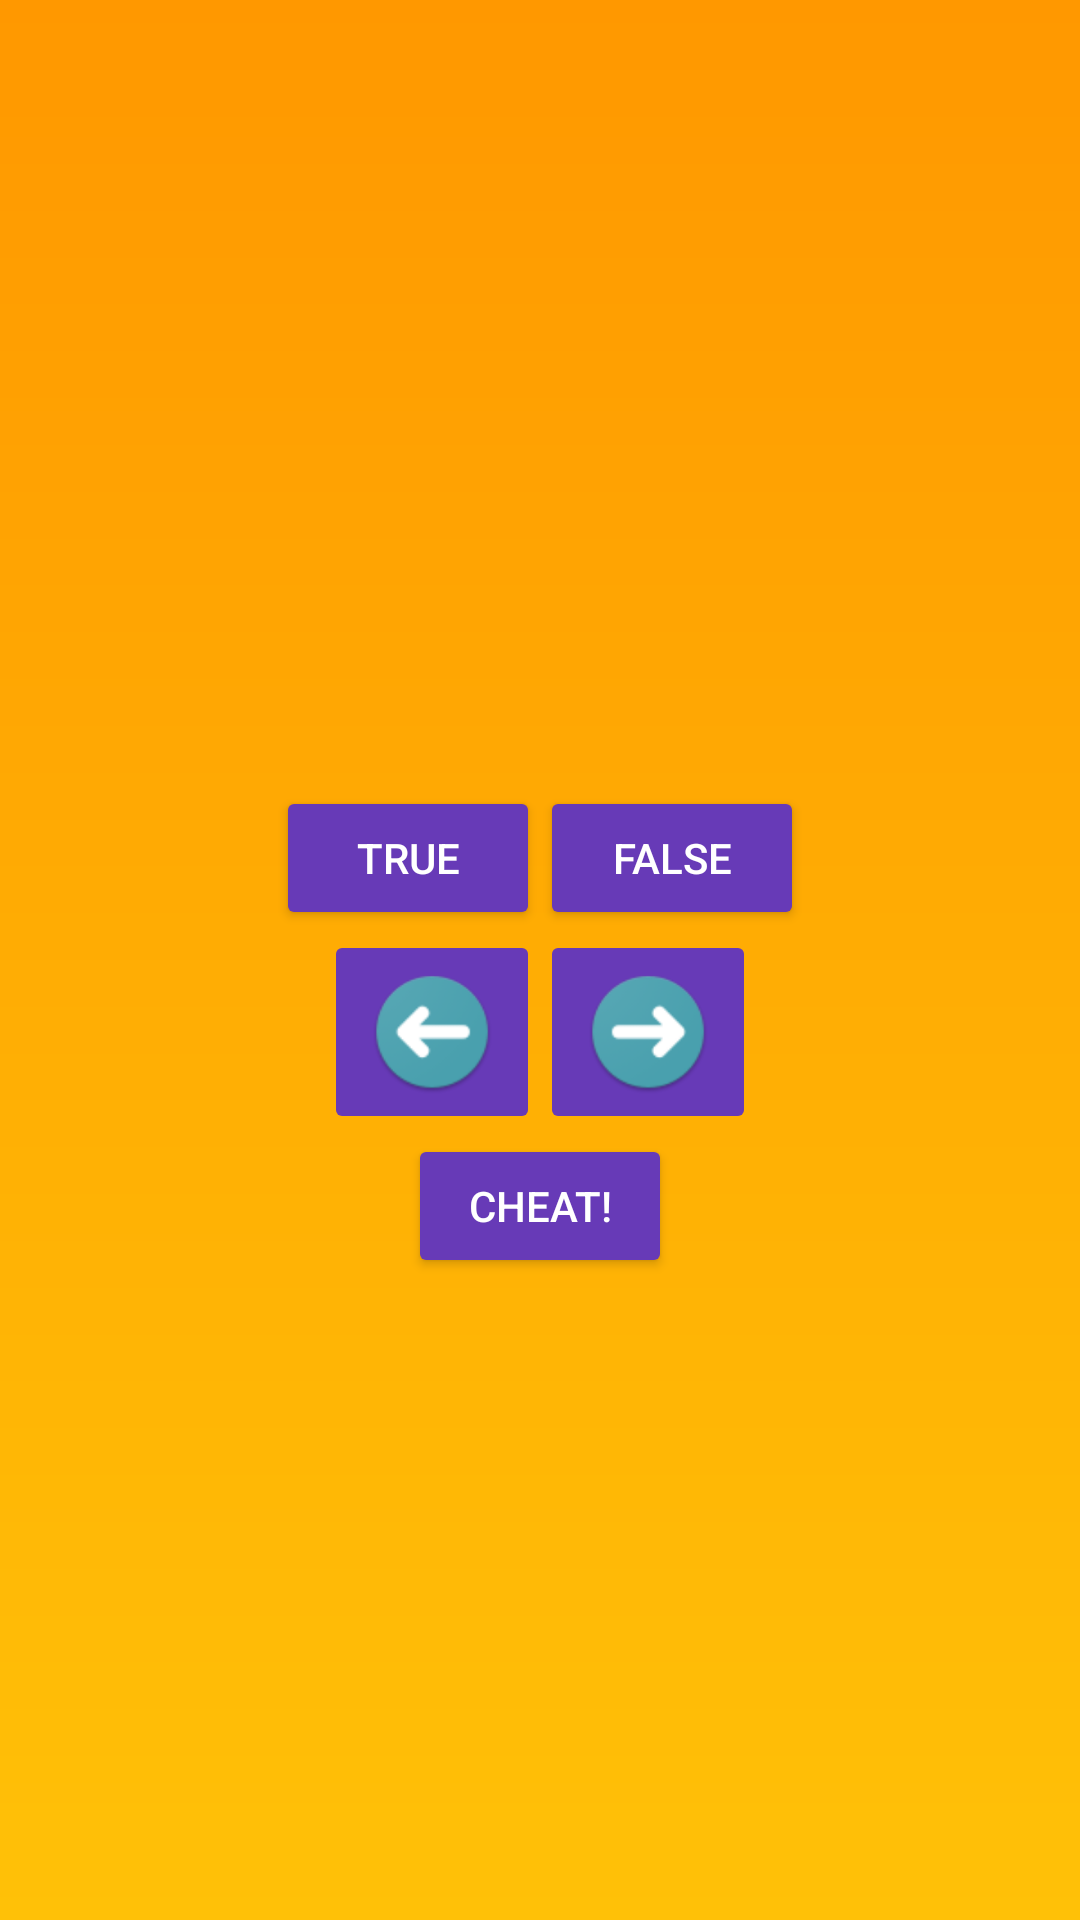

Where icons sit on this 1080px x 1920px app screen, as (x1, y1, x2, y2):
Next: (552, 948, 744, 1116)
Previous: (336, 948, 528, 1116)
